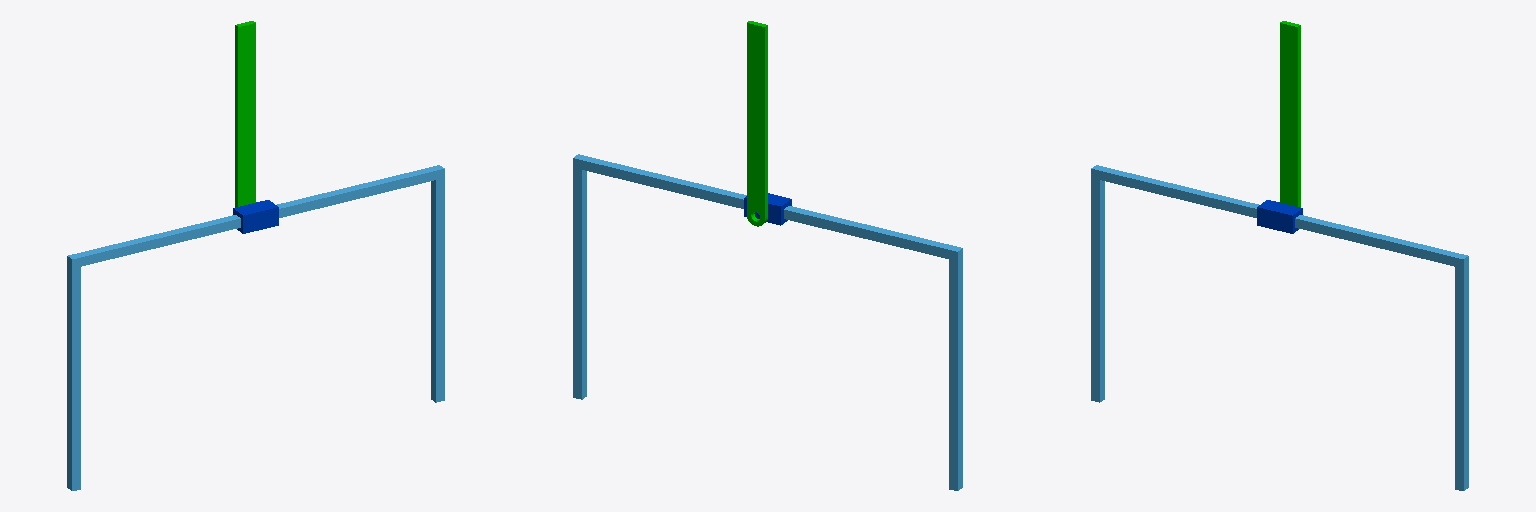
robot.urdf — cart_pole:
<?xml version="1.0" ?>
<!-- =================================================================================== -->
<!-- |    This document was autogenerated by xacro from cart_pole.urdf.xacro           | -->
<!-- |    EDITING THIS FILE BY HAND IS NOT RECOMMENDED                                 | -->
<!-- =================================================================================== -->
<robot name="cart_pole">
  <!-- =============== Link & Joint =============== -->
  <!-- Base -->
  <link name="base_footprint"/>
  <joint name="base_link_joint" type="fixed">
    <origin xyz="0 0 0"/>
    <parent link="base_footprint"/>
    <child link="base_link"/>
  </joint>
  <link name="base_link">
    <visual>
      <geometry>
        <mesh filename="package://robot_description/meshes/DAE/base/stand.dae"/>
      </geometry>
    </visual>
    <collision>
      <geometry>
        <mesh filename="package://robot_description/meshes/STL/base/stand.stl"/>
      </geometry>
    </collision>
    <inertial>
      <origin xyz="0 0 -0.333"/>
      <mass value="88"/>
      <inertia ixx="14.25" ixy="0" ixz="0.0245" iyy="78.78" iyz="0" izz="64.57"/>
    </inertial>
  </link>
  <joint name="cart_joint" type="prismatic">
    <origin rpy="0 0 0" xyz="0 0 0"/>
    <parent link="base_link"/>
    <child link="cart_link"/>
    <limit effort="30" lower="-1.0" upper="1.0" velocity="10"/>
    <dynamics damping="0.005" friction="0.1"/>
    <axis xyz="1 0 0"/>
  </joint>
  <link name="cart_link">
    <visual>
      <geometry>
        <mesh filename="package://robot_description/meshes/DAE/cart/cart.dae"/>
      </geometry>
    </visual>
    <collision>
      <geometry>
        <mesh filename="package://robot_description/meshes/STL/cart/cart.stl"/>
      </geometry>
    </collision>
    <inertial>
      <origin xyz="0 0 0"/>
      <mass value="2.7"/>
      <inertia ixx="0.005878" ixy="0" ixz="0" iyy="0.01145" iyz="0" izz="0.01186"/>
    </inertial>
  </link>
  <joint name="pole_joint" type="revolute">
    <origin rpy="0 3.14159274 0" xyz="0 0.1 0"/>
    <parent link="cart_link"/>
    <child link="pole_link"/>
    <limit effort="15" lower="-1.7" upper="1.7" velocity="10"/>
    <dynamics damping="0.00001" friction="0.01"/>
    <axis xyz="0 1 0"/>
  </joint>
  <link name="pole_link">
    <visual>
      <geometry>
        <mesh filename="package://robot_description/meshes/DAE/pole/pole.dae"/>
      </geometry>
    </visual>
    <collision>
      <geometry>
        <mesh filename="package://robot_description/meshes/STL/pole/pole.stl"/>
      </geometry>
    </collision>
    <inertial>
      <origin xyz="0 0 -0.489554"/>
      <mass value="0.85955"/>
      <inertia ixx="0.07508" ixy="0" ixz="-0.0000095" iyy="0.07574" iyz="0" izz="0.0007851"/>
    </inertial>
  </link>
  <joint name="tip_joint" type="revolute">
    <origin rpy="0 0 0" xyz="0 0 -1"/>
    <parent link="pole_link"/>
    <child link="tip_link"/>
    <limit effort="30" lower="-1.0" upper="1.0" velocity="10"/>
    <dynamics damping="0.005" friction="0.1"/>
    <axis xyz="0 1 0"/>
  </joint>
  <link name="tip_link">
    <inertial>
      <origin xyz="0 0 0"/>
      <mass value="0.0001"/>
      <inertia ixx="0.00000001" ixy="0" ixz="0" iyy="0.00000001" iyz="0" izz="0.00000001"/>
    </inertial>
  </link>
  <transmission name="cart_trans">
    <type>transmission_interface/SimpleTransmission</type>
    <joint name="cart_joint">
      <hardwareInterface>hardware_interface/EffortJointInterface</hardwareInterface>
    </joint>
    <actuator name="cart_motor">
      <hardwareInterface>hardware_interface/EffortJointInterface</hardwareInterface>
      <mechanicalReduction>1</mechanicalReduction>
    </actuator>
  </transmission>
  <!-- =============== Gazebo =============== -->
  <gazebo>
    <plugin filename="libgazebo_ros_control.so" name="gazebo_ros_control"/>
  </gazebo>
  <gazebo reference="base_link">
    <selfCollide>false</selfCollide>
    <mu1 value="0.05"/>
    <mu2 value="0.05"/>
  </gazebo>
  <gazebo reference="cart_link">
    <selfCollide>false</selfCollide>
    <mu1 value="1.2"/>
    <mu2 value="1.2"/>
  </gazebo>
  <gazebo reference="pole_link">
    <selfCollide>false</selfCollide>
    <mu1 value="1.2"/>
    <mu2 value="1.2"/>
  </gazebo>
  <gazebo reference="tip_link">
    <selfCollide>false</selfCollide>
    <mu1 value="1.2"/>
    <mu2 value="1.2"/>
  </gazebo>
</robot>

--- Facts derived from the render (not from the file) ---
Views: 3 orthographic renders of the robot side by side, from view 1: azimuth 30°, elevation 25°; view 2: azimuth 150°, elevation 25°; view 3: azimuth 330°, elevation 25°.
Robot: cart_pole — 5 links, 4 joints (2 revolute, 1 prismatic, 1 fixed); root link base_footprint; default pose: all joints at 0.
Links seen in each view (by area): view 1: base_link, pole_link, cart_link; view 2: base_link, pole_link, cart_link; view 3: base_link, pole_link, cart_link.
Link boxes in pixels (left/top/right/bottom): base_link: left=67, top=165, right=444, bottom=490; pole_link: left=235, top=21, right=255, bottom=207; cart_link: left=233, top=200, right=278, bottom=233; base_link: left=573, top=154, right=962, bottom=490; pole_link: left=747, top=21, right=767, bottom=226; cart_link: left=744, top=193, right=791, bottom=225; base_link: left=1091, top=165, right=1468, bottom=490; pole_link: left=1280, top=21, right=1300, bottom=207; cart_link: left=1257, top=200, right=1302, bottom=233.
Bounding box of the posed robot: 2.1 × 0.165 × 2.23 m (x, y, z).
Meshes: 3 distinct files referenced, 3 mesh visuals loaded (3 Collada DAE).